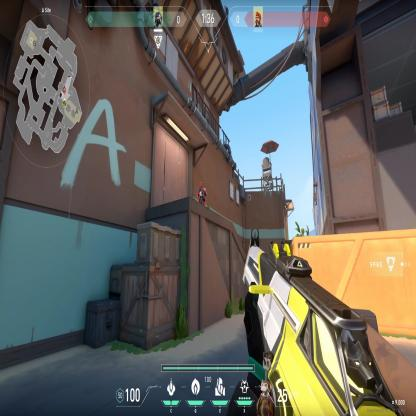enemy: (197, 180, 207, 208)
